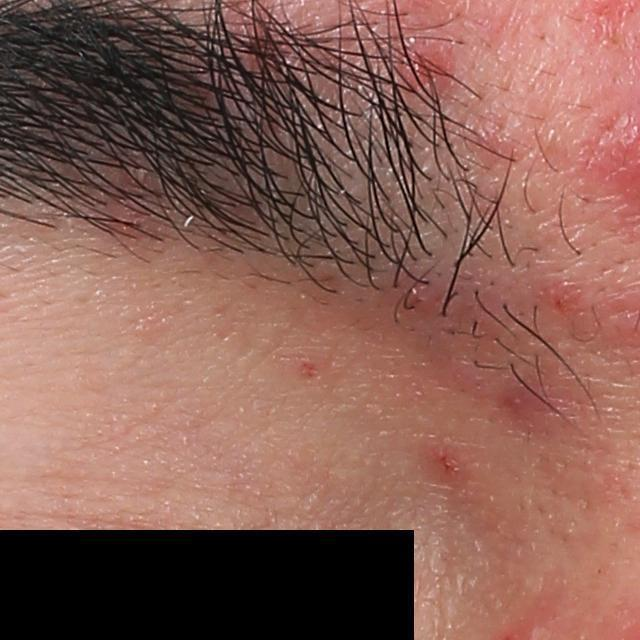papule: (401, 36, 458, 90), (421, 440, 470, 485)
